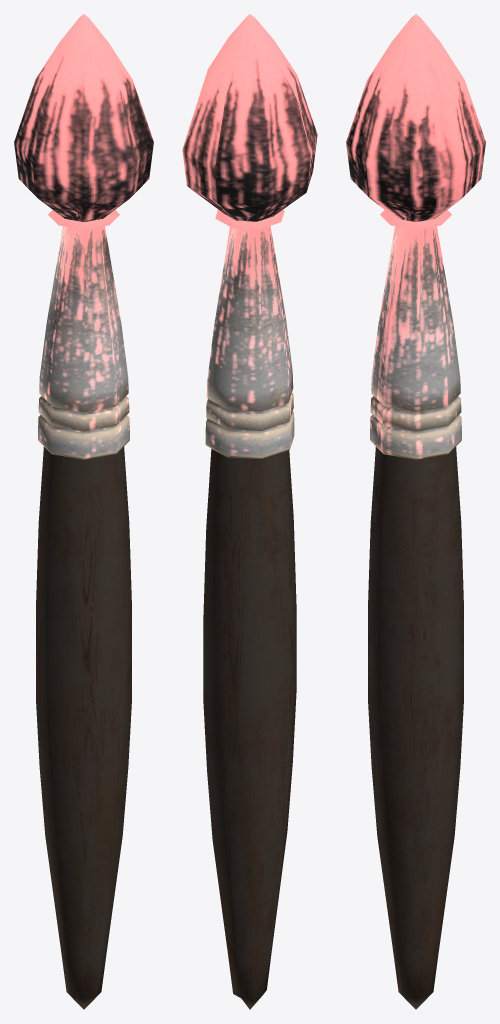
File: companion_brush.fbx
3 renders of one model, left to right at view 1: azimuth 90°, elevation 25°; view 2: azimuth 150°, elevation 25°; view 3: azimuth 270°, elevation 25°, orthographic.
Parts seen in each view (by area): view 1: brush_handle_low, brush_bristles_low, brush_collar_low; view 2: brush_handle_low, brush_bristles_low, brush_collar_low; view 3: brush_handle_low, brush_bristles_low, brush_collar_low.
Part boxes in pixels (x1,y1,x2,y2): brush_handle_low: (36, 447, 131, 1009); brush_bristles_low: (14, 14, 153, 221); brush_collar_low: (38, 210, 129, 459); brush_handle_low: (203, 448, 296, 1009); brush_bristles_low: (182, 14, 317, 221); brush_collar_low: (205, 209, 294, 458); brush_handle_low: (368, 447, 463, 1009); brush_bristles_low: (346, 14, 485, 221); brush_collar_low: (370, 210, 461, 459).
Bounding box in the file's own units: 1.79 × 14.04 × 1.79.
Materials: 1 (1 with a texture image).
